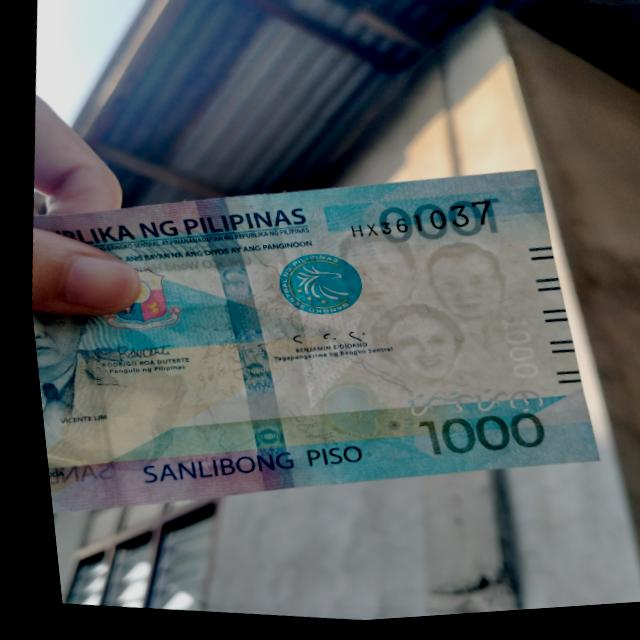security_thread: (186, 200, 284, 493)
see_through_mark: (390, 376, 541, 436)
serial_number: (331, 185, 495, 265)
value_watermark: (484, 316, 544, 391)
watermark: (316, 226, 512, 401)
